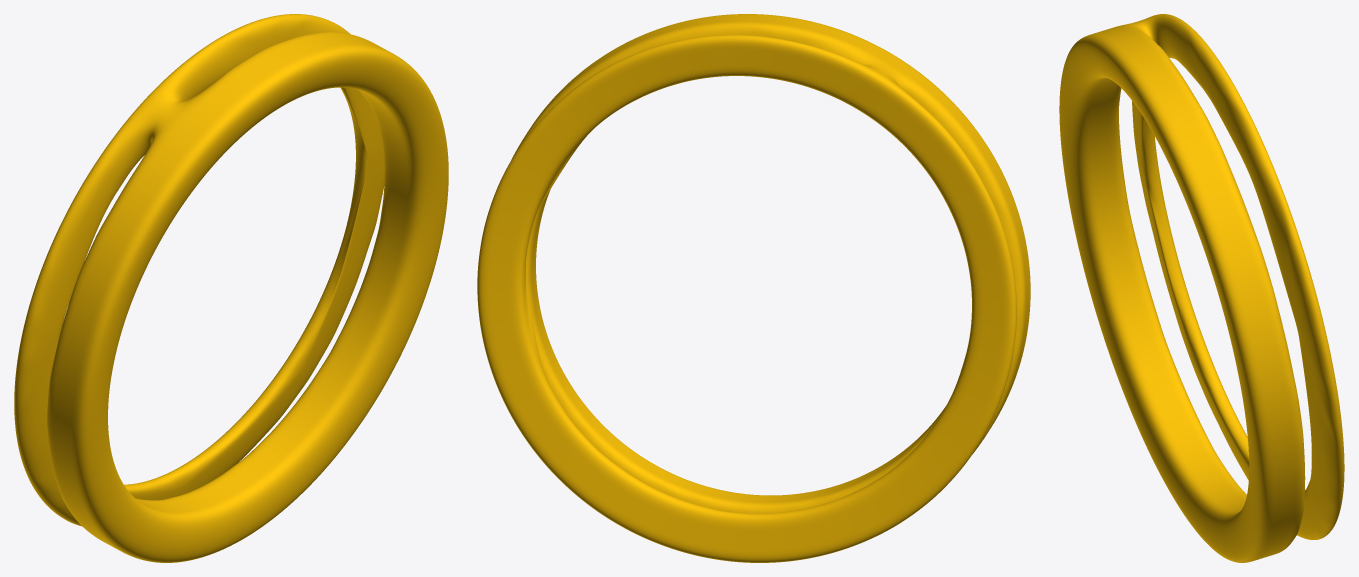
File: Anillo.fbx
3 views of the same model, side by side, from view 1: azimuth 30°, elevation 25°; view 2: azimuth 150°, elevation 25°; view 3: azimuth 270°, elevation 25° (orthographic). The views are drawn at different scales.
Visible parts, largest first — view 1: Circle_001; view 2: Circle_001; view 3: Circle_001.
Boxes of the visible parts, x1,y1,x2,y2 form: Circle_001: (14, 14, 448, 562); Circle_001: (477, 14, 1030, 562); Circle_001: (1059, 14, 1344, 562).
Size of the model in its own units: 0.1811 by 0.1849 by 0.095.
